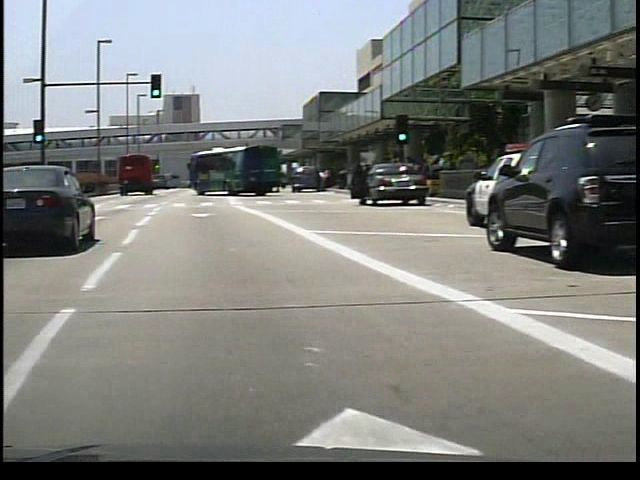person: (313, 167, 324, 191)
